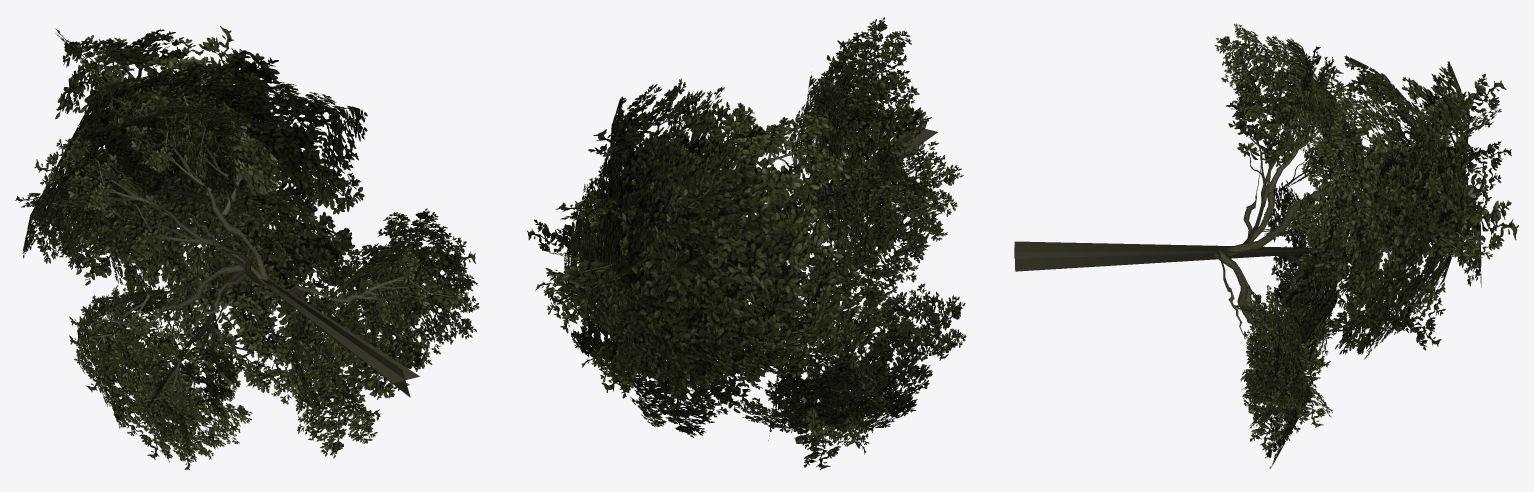
Rendered from Trees_02_d_LOD_01.fbx.
The picture shows the model from 3 angles, left to right: view 1: azimuth 30°, elevation 25°; view 2: azimuth 150°, elevation 25°; view 3: azimuth 270°, elevation 25°; orthographic projection. The views are drawn at different scales.
Visible parts, largest first — view 1: MEP_Leafs_02_d_LOD_01; view 2: MEP_Leafs_02_d_LOD_01; view 3: MEP_Leafs_02_d_LOD_01.
Boxes of the visible parts, left/top/right/bottom form: MEP_Leafs_02_d_LOD_01: left=15, top=26, right=479, bottom=470; MEP_Leafs_02_d_LOD_01: left=527, top=17, right=966, bottom=470; MEP_Leafs_02_d_LOD_01: left=1014, top=23, right=1518, bottom=468.
Size of the model in its own units: 15.15 by 14.21 by 17.36.
